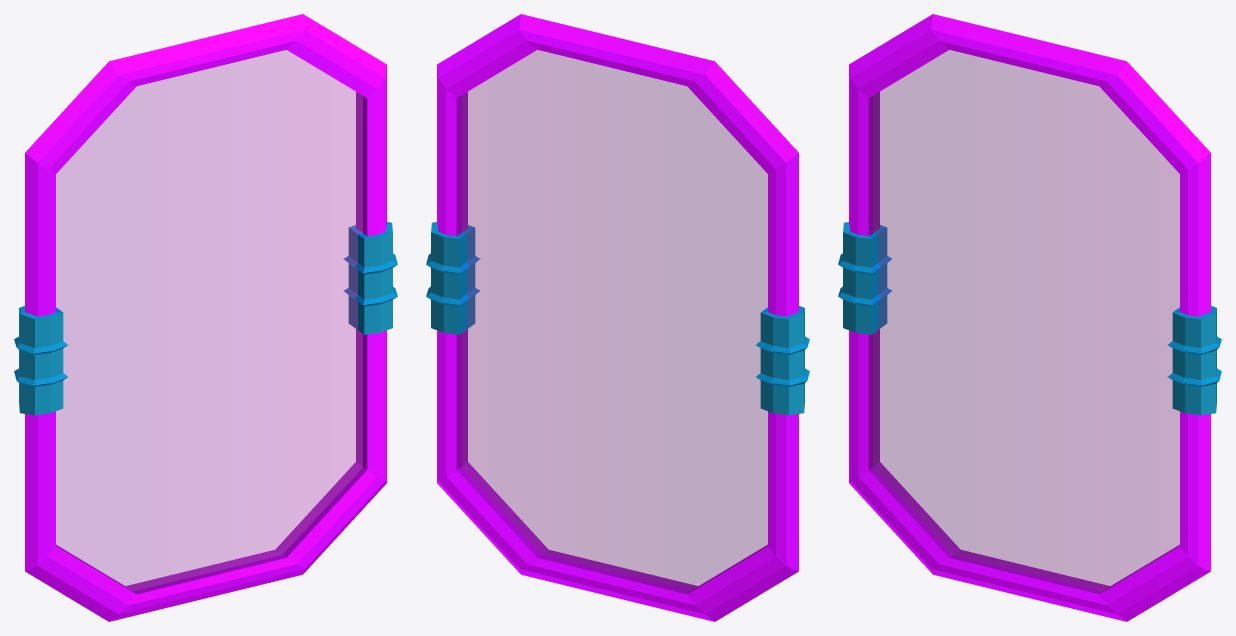
Rendered from Sign_Square_Vertical.glb.
3 renders of one model, left to right at view 1: azimuth 30°, elevation 25°; view 2: azimuth 150°, elevation 25°; view 3: azimuth 330°, elevation 25°, orthographic.
Parts seen in each view (by area): view 1: SciFi_SquareVerticalSign; view 2: SciFi_SquareVerticalSign; view 3: SciFi_SquareVerticalSign.
Boxes of the visible parts, x1,y1,x2,y2 form: SciFi_SquareVerticalSign: (14,14,397,621); SciFi_SquareVerticalSign: (426,14,809,621); SciFi_SquareVerticalSign: (838,14,1221,621).
Size of what is drawn, in the model's own units: 1.21 by 1.71 by 0.1316.
Materials: 2 (2 with a texture image).
